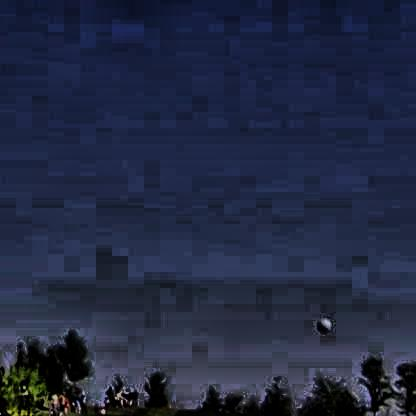golfball: (314, 314, 329, 331)
